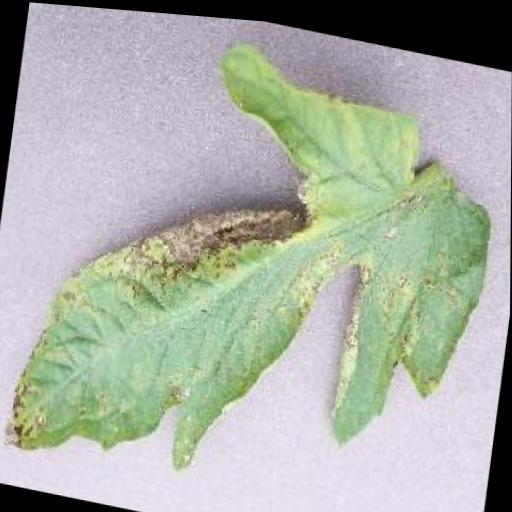Septoria: (0, 2, 507, 512)
